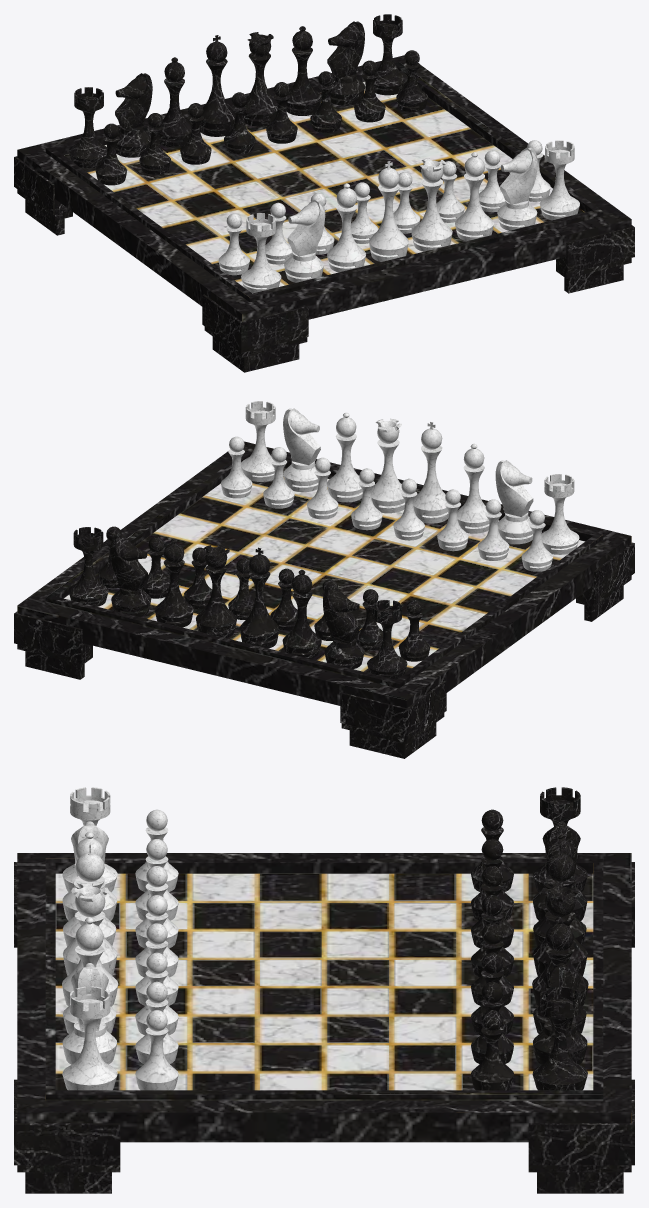
The model's file is chess.glb.
3 renders of one model, top to bottom at view 1: azimuth 30°, elevation 25°; view 2: azimuth 150°, elevation 25°; view 3: azimuth 270°, elevation 25°, orthographic. The views are drawn at different scales.
Visible parts, largest first — view 1: Plane, Plane.002, Plane.003, Cylinder.022, Cylinder.003, Cylinder.008, Cylinder.019, Cylinder, Cylinder.001, Cylinder.016, Cylinder.017, Cylinder.006 (+25 smaller); view 2: Plane, Plane.002, Plane.003, Cylinder.008, Cylinder.019, Cylinder.022, Cylinder.003, Cylinder.016, Cylinder, Cylinder.017, Cylinder.001, Cylinder.020 (+25 smaller); view 3: Plane, Plane.002, Plane.003, Cylinder.003, Cylinder.019, Cylinder.008, Cylinder.022, Cylinder.004, Cylinder.023, Cylinder.005, Cylinder.031, Cylinder (+33 smaller).
Part boxes in pixels (box(x1,y1,x2,y2)): Plane: box(17, 55, 631, 321); Plane.002: box(14, 156, 634, 352); Plane.003: box(17, 189, 631, 372); Cylinder.022: box(69, 87, 107, 168); Cylinder.003: box(539, 140, 579, 220); Cylinder.008: box(241, 213, 281, 293); Cylinder.019: box(373, 14, 407, 95); Cylinder: box(369, 184, 408, 261); Cylinder.001: box(411, 179, 452, 251); Cylinder.016: box(200, 58, 235, 136); Cylinder.017: box(244, 53, 277, 126); Cylinder.006: box(327, 204, 365, 272); Plane: box(17, 441, 631, 707); Plane.002: box(14, 542, 634, 739); Plane.003: box(17, 575, 631, 758); Cylinder.008: box(541, 474, 579, 554); Cylinder.019: box(68, 527, 108, 606); Cylinder.022: box(367, 600, 407, 679); Cylinder.003: box(241, 401, 275, 481); Cylinder.016: box(239, 571, 279, 648); Cylinder: box(413, 445, 448, 523); Cylinder.017: box(196, 565, 236, 637); Cylinder.001: box(371, 439, 404, 513); Cylinder.020: box(282, 591, 321, 658); Plane: box(17, 853, 631, 1142); Plane.002: box(14, 862, 634, 1165); Plane.003: box(17, 1165, 631, 1193); Cylinder.003: box(62, 986, 117, 1090); Cylinder.019: box(532, 986, 587, 1090); Cylinder.008: box(62, 787, 117, 892); Cylinder.022: box(532, 787, 587, 891); Cylinder.004: box(135, 1027, 178, 1090); Cylinder.023: box(471, 1027, 513, 1090); Cylinder.005: box(62, 1021, 116, 1064); Cylinder.031: box(533, 1021, 587, 1064); Cylinder: box(63, 876, 117, 975).
Size of the model in its own units: 231 by 85.7 by 231.
Materials: 10 (10 with a texture image).
